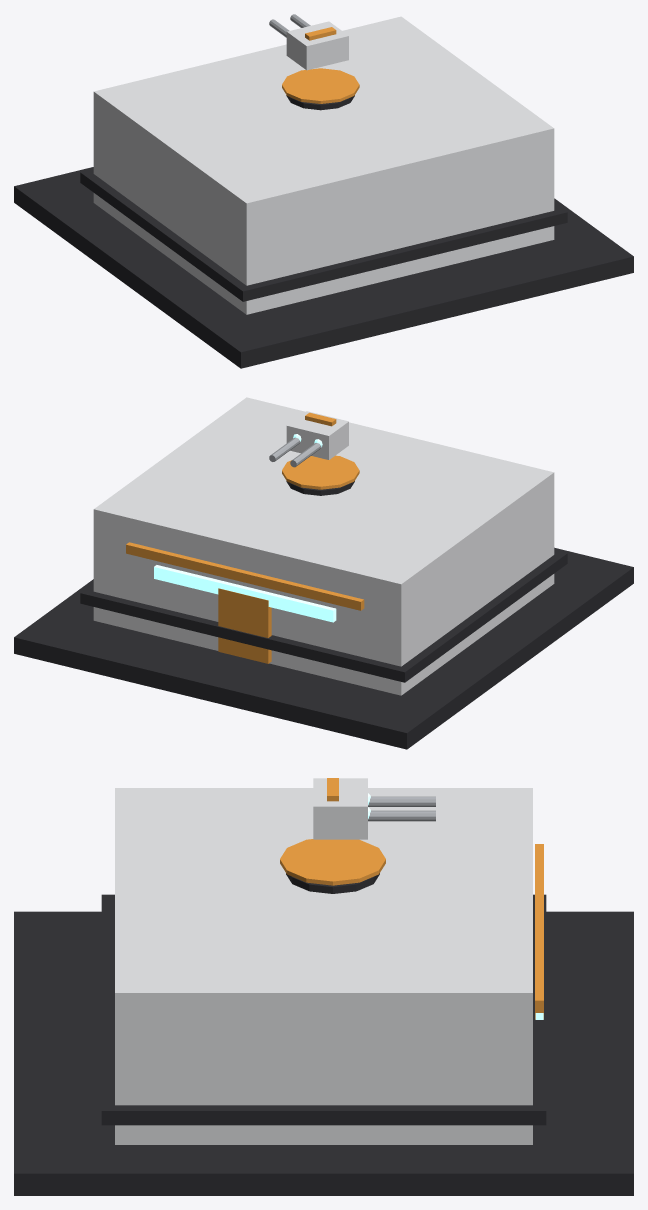
Rendered from SM_Hero_Defense.glb.
3 views of the same model, one above another, from view 1: azimuth 30°, elevation 25°; view 2: azimuth 150°, elevation 25°; view 3: azimuth 270°, elevation 25° (orthographic). The views are drawn at different scales.
Visible parts, largest first — view 1: SM_Hero_Defense; view 2: SM_Hero_Defense; view 3: SM_Hero_Defense.
Part boxes in pixels (<box>): SM_Hero_Defense: <box>14,14,633,368</box>; SM_Hero_Defense: <box>14,397,633,749</box>; SM_Hero_Defense: <box>14,778,633,1195</box>.
Size of the model in its own units: 5.52 by 2.73 by 5.52.
